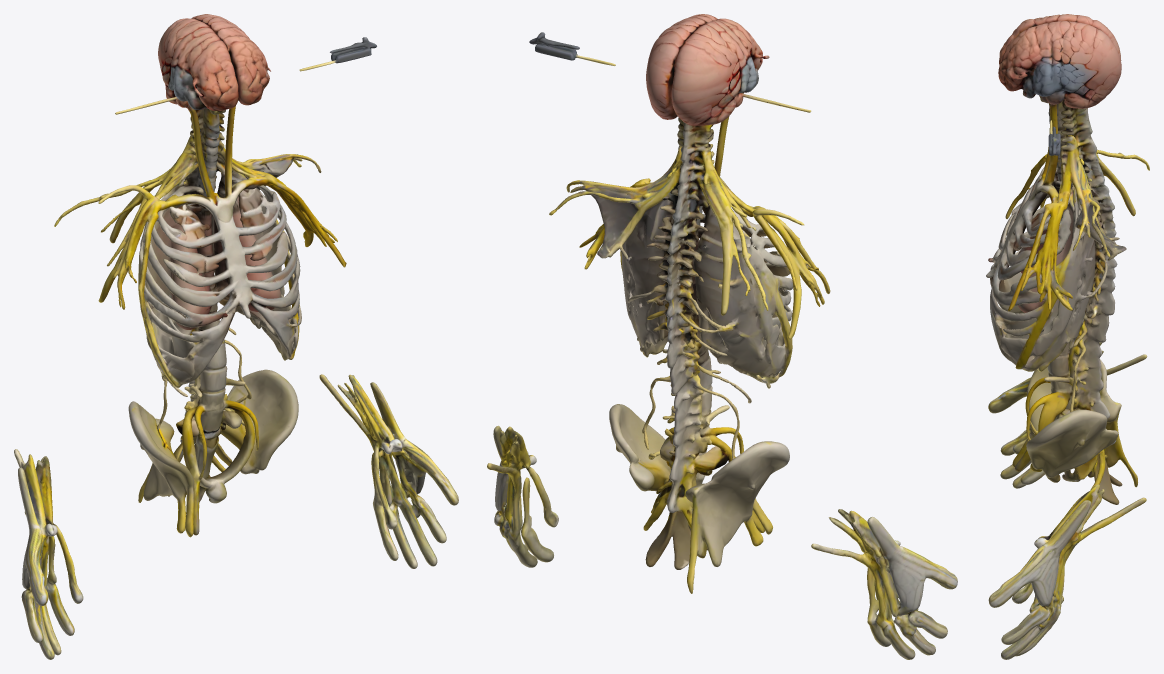
The model's file is nervous-system.glb.
The picture shows the model from 3 angles, left to right: view 1: azimuth 30°, elevation 25°; view 2: azimuth 150°, elevation 25°; view 3: azimuth 270°, elevation 25°; orthographic projection. The views are drawn at different scales.
Parts seen in each view (by area): view 1: tripo_node_c84af061-f6e5-408a-8e7a-c301783eaaeb; view 2: tripo_node_c84af061-f6e5-408a-8e7a-c301783eaaeb; view 3: tripo_node_c84af061-f6e5-408a-8e7a-c301783eaaeb.
Boxes of the visible parts, x1,y1,x2,y2 form: tripo_node_c84af061-f6e5-408a-8e7a-c301783eaaeb: (14,14,458,659); tripo_node_c84af061-f6e5-408a-8e7a-c301783eaaeb: (487,14,957,659); tripo_node_c84af061-f6e5-408a-8e7a-c301783eaaeb: (986,14,1149,659).
Bounding box in the file's own units: 0.7694 × 1 × 0.2691.
1 material, 1 textured.
